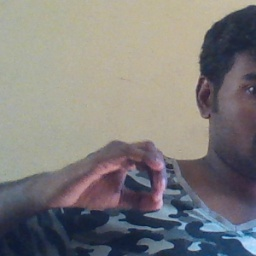O: (56, 136, 172, 218)
